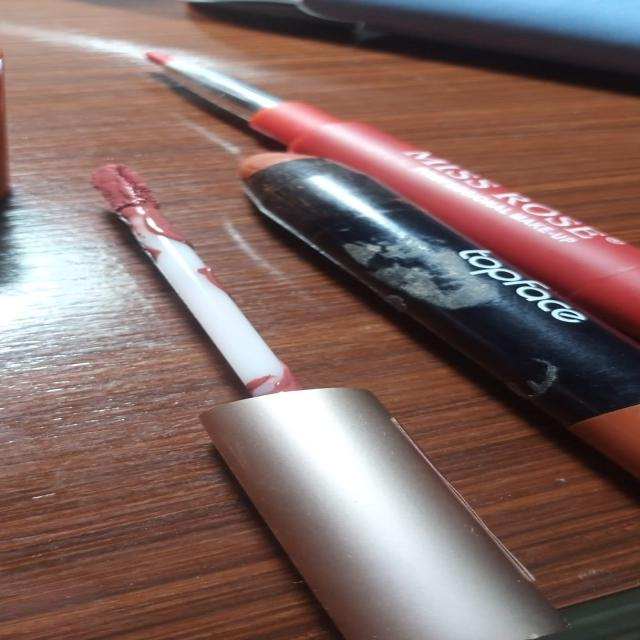lip gloss: (47, 151, 270, 451)
lip liner: (131, 37, 321, 119)
lip stick: (188, 139, 474, 320)
